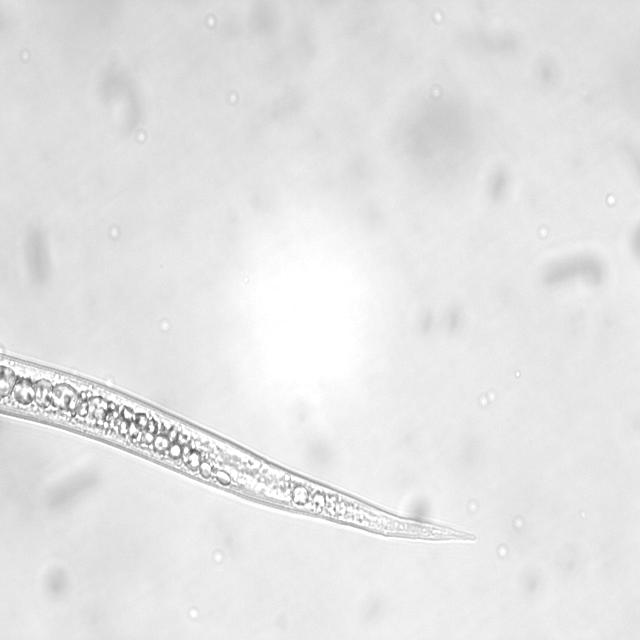Meloidogyne: (0, 326, 485, 551)
